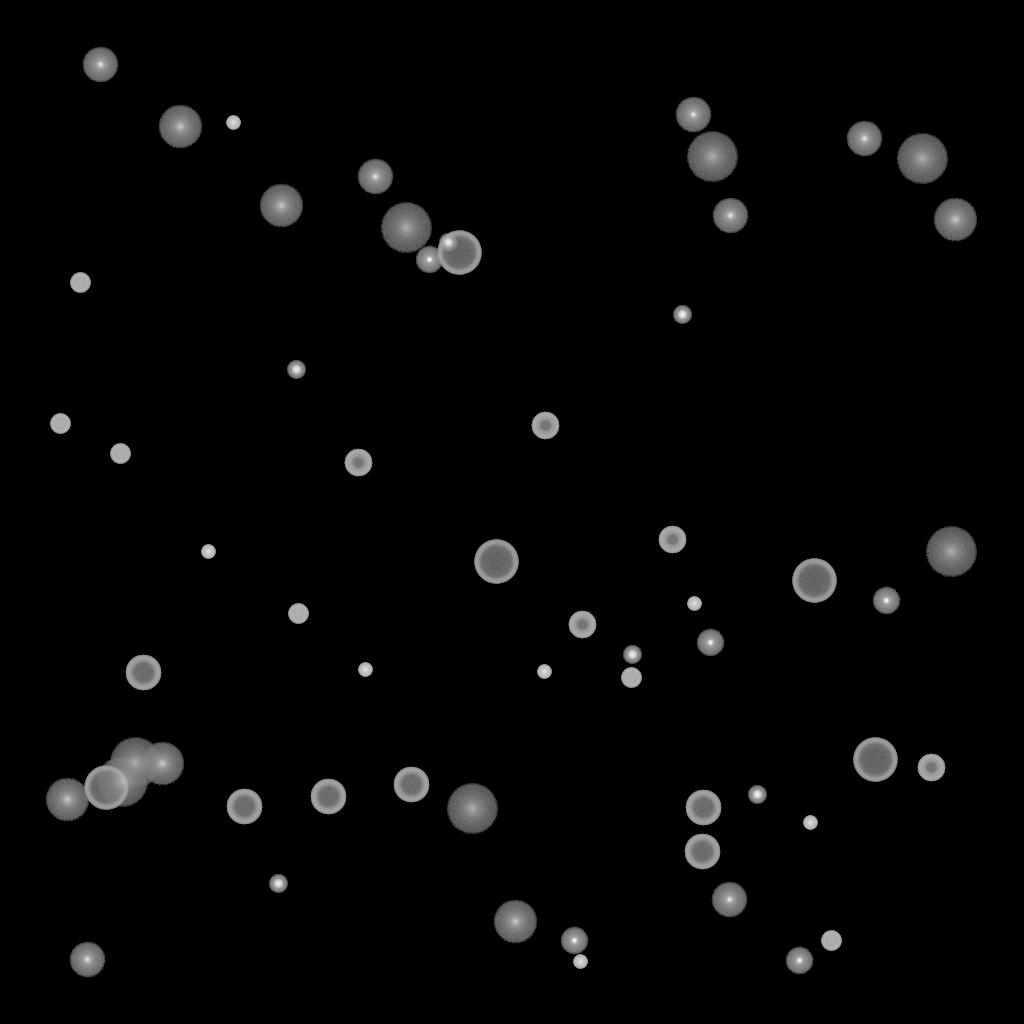depth:-10: (560, 927, 588, 955), (872, 587, 900, 615), (785, 947, 813, 975), (415, 246, 443, 274), (696, 629, 724, 657)
depth:-20: (748, 786, 766, 804), (439, 234, 457, 252), (623, 646, 641, 664), (673, 306, 691, 324), (269, 875, 287, 893), (287, 361, 305, 379)
depth:-30: (573, 955, 587, 969), (803, 816, 817, 830), (358, 663, 372, 677), (201, 545, 215, 559), (226, 116, 240, 130), (687, 597, 701, 611), (537, 665, 551, 679)
depth:-40: (821, 931, 841, 951), (50, 414, 70, 434), (70, 273, 90, 293), (288, 604, 308, 624), (110, 444, 130, 464), (621, 668, 641, 688)
depth:-50: (658, 526, 686, 554), (344, 449, 372, 477), (568, 611, 596, 639), (531, 412, 559, 440), (917, 754, 945, 782)
depth:-60: (684, 834, 720, 870), (125, 655, 161, 691), (685, 790, 721, 826), (393, 767, 429, 803), (226, 789, 262, 825), (310, 779, 346, 815)
depth:-70: (853, 738, 897, 782), (474, 540, 518, 584), (437, 231, 481, 275), (84, 766, 128, 810), (792, 559, 836, 603)
depth:0: (82, 47, 118, 83), (357, 159, 393, 195), (712, 198, 748, 234), (675, 97, 711, 133), (711, 882, 747, 918), (846, 121, 882, 157), (69, 942, 105, 978)
depth:10: (493, 900, 537, 944), (45, 778, 89, 822), (158, 105, 202, 149), (933, 198, 977, 242), (140, 742, 184, 786), (259, 184, 303, 228)
depth:20: (109, 738, 161, 788), (380, 203, 432, 253), (925, 527, 977, 577), (446, 784, 498, 834), (96, 757, 148, 807), (686, 132, 738, 182), (896, 134, 948, 184)
